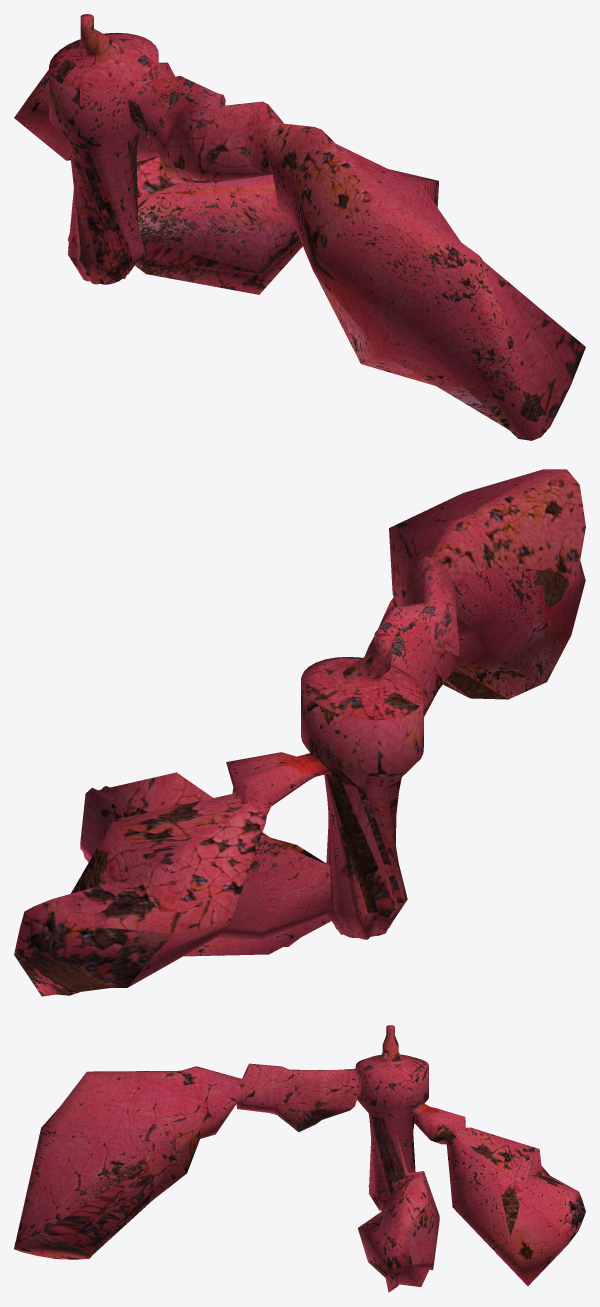
The model's file is map.glb.
3 renders of one model, top to bottom at view 1: azimuth 30°, elevation 25°; view 2: azimuth 150°, elevation 25°; view 3: azimuth 270°, elevation 25°, orthographic. The views are drawn at different scales.
Visible parts, largest first — view 1: Circle; view 2: Circle; view 3: Circle.
Boxes of the visible parts, bbox=[...] form: Circle: bbox=[14, 14, 585, 440]; Circle: bbox=[14, 469, 585, 996]; Circle: bbox=[14, 1025, 585, 1292].
Size of the model in its own units: 197 by 211 by 520.
1 material, 1 textured.
